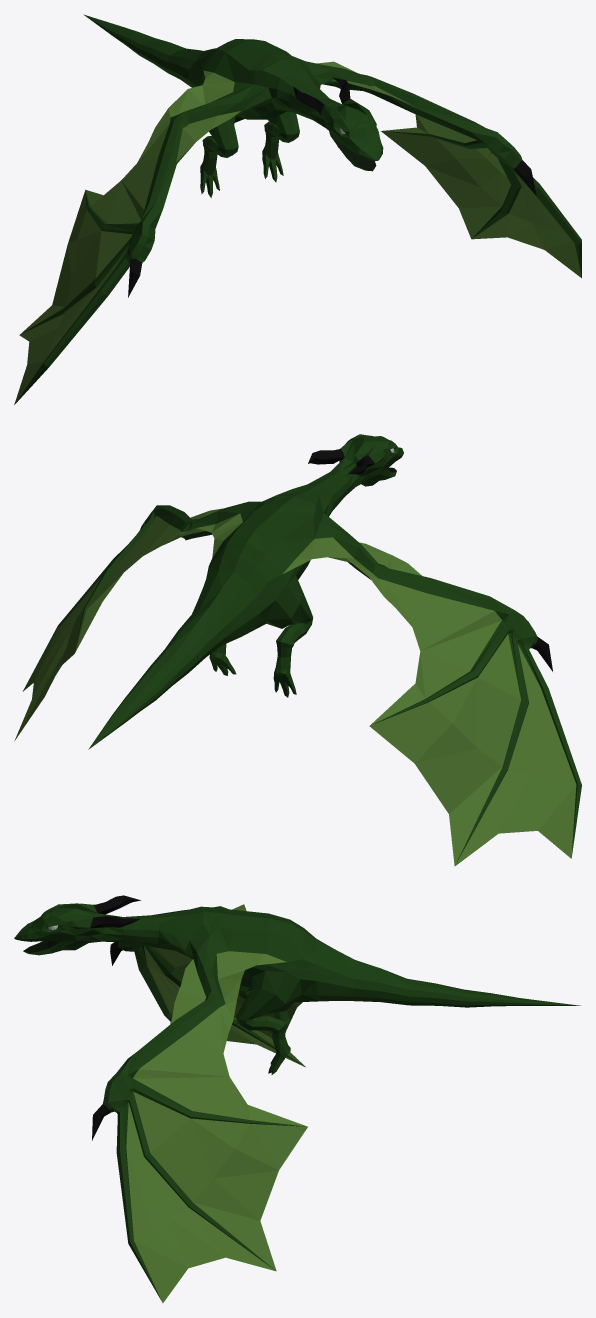
The model's file is dragon.obj.
3 renders of one model, top to bottom at view 1: azimuth 30°, elevation 25°; view 2: azimuth 150°, elevation 25°; view 3: azimuth 270°, elevation 25°, orthographic. The views are drawn at different scales.
Parts seen in each view (by area): view 1: Dragon_Cylinder.001; view 2: Dragon_Cylinder.001; view 3: Dragon_Cylinder.001.
Part boxes in pixels (left/top/right/bottom): Dragon_Cylinder.001: left=14, top=14, right=581, bottom=404; Dragon_Cylinder.001: left=14, top=434, right=581, bottom=866; Dragon_Cylinder.001: left=14, top=895, right=580, bottom=1302.
Bounding box in the file's own units: 4.79 × 2.4 × 4.49.
